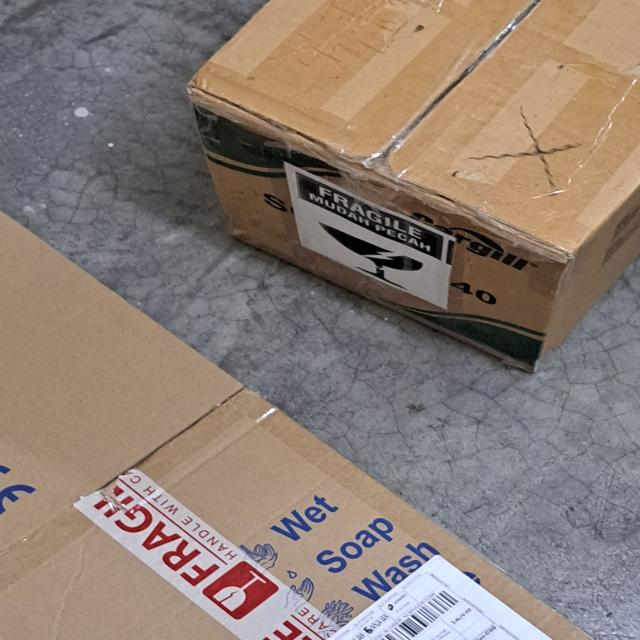cardboard: (0, 208, 594, 640), (179, 0, 640, 375)
